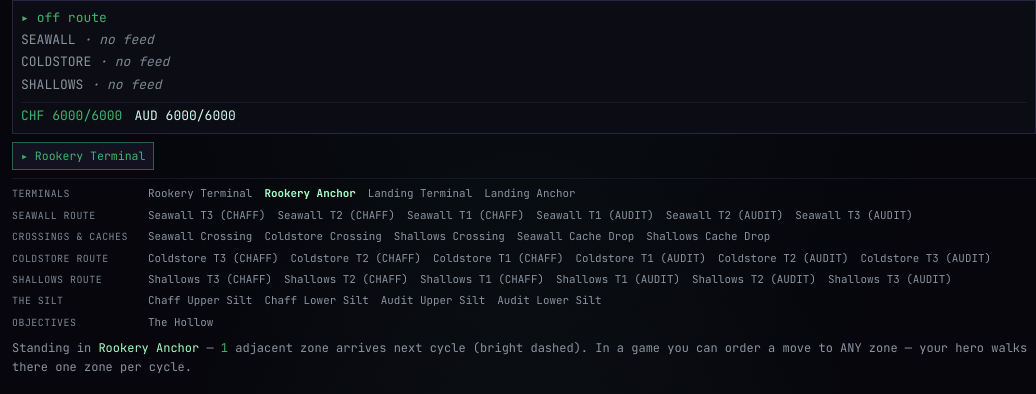
MapPrimer › lists the adjacent zones as clickable hops and moves the explorer on click
This screenshot has width=1036, height=394.
Step 1. Click the button with test id "primer-zone-rookery-terminal" → (83,156), box [12,142,154,170]
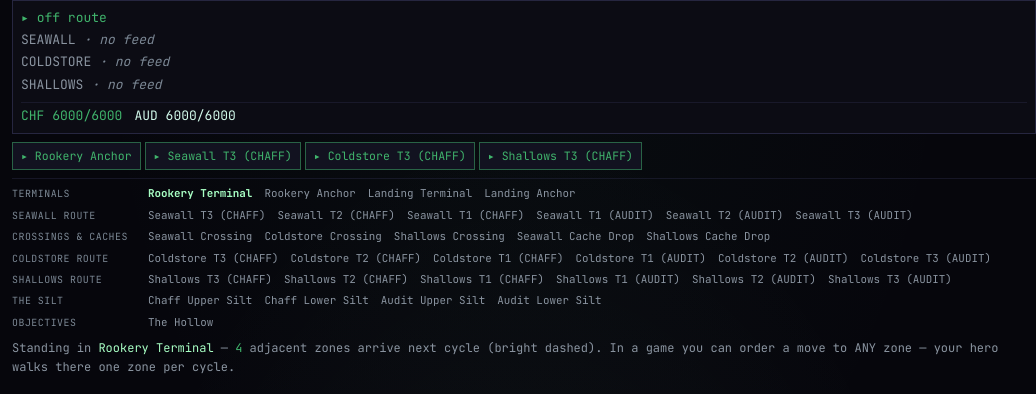
Expected: the element with test id "map-primer-caption" shows "Rookery Terminal", [98,340,214,356]
Expected: the element with test id "map-primer-caption" shows "4 adjacent zones arrive", [12,339,1035,378]
